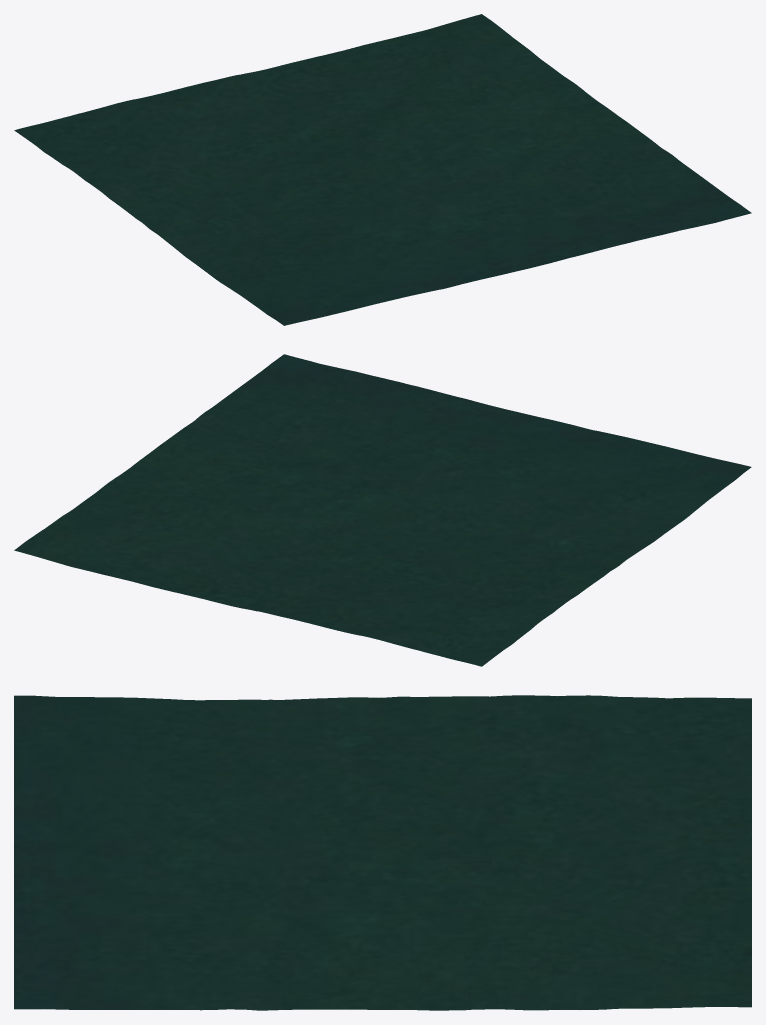
3 views of the same model, one above another, from view 1: azimuth 30°, elevation 25°; view 2: azimuth 150°, elevation 25°; view 3: azimuth 270°, elevation 25° (orthographic). The views are drawn at different scales.
Bounding box in the file's own units: 104 × 0.9542 × 104.
Materials: 2 (2 with a texture image).
